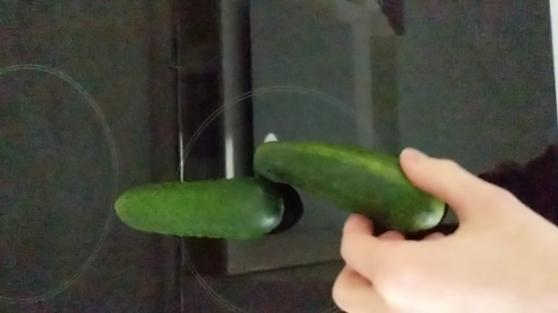cucumber: (251, 135, 450, 237), (115, 170, 289, 241)
